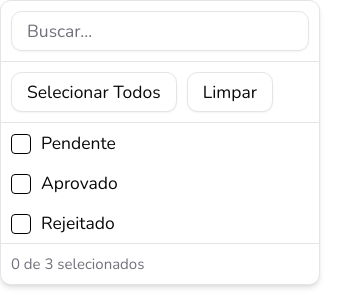
Test: BaseMultiSelectFilter › Uncontrolled Mode (internal state) › clears filter with Limpar button in uncontrolled mode
Click the checkbox "Pendente" at (63, 142), box [11, 130, 116, 154]
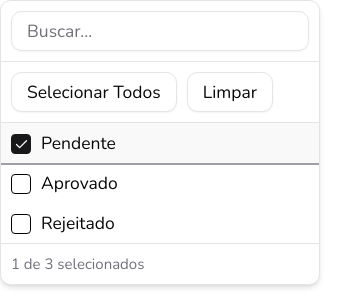
Expected: the text "1 de 3 selecionados" is shown, [1, 243, 319, 284]
Click the button "Limpar" at (230, 92), box [187, 72, 273, 112]
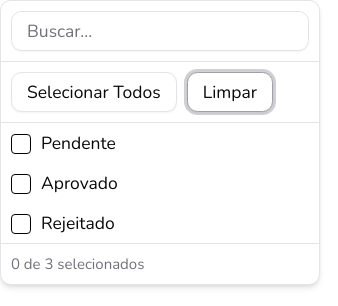
Expected: the text "0 de 3 selecionados" is shown, [1, 243, 319, 284]
